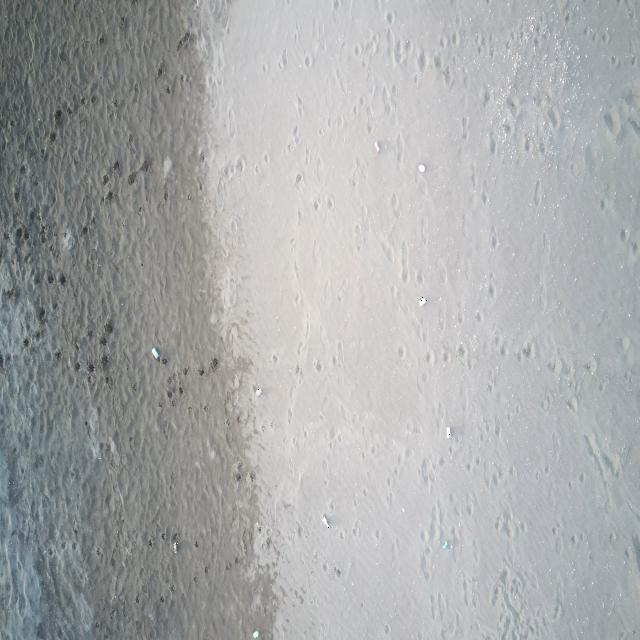Garbage: (151, 347, 159, 359), (322, 514, 328, 527), (440, 540, 451, 547), (172, 540, 178, 552), (373, 141, 380, 151), (420, 296, 426, 306), (252, 631, 259, 639), (417, 163, 423, 172), (446, 427, 451, 437), (255, 387, 260, 395), (442, 540, 447, 548)
